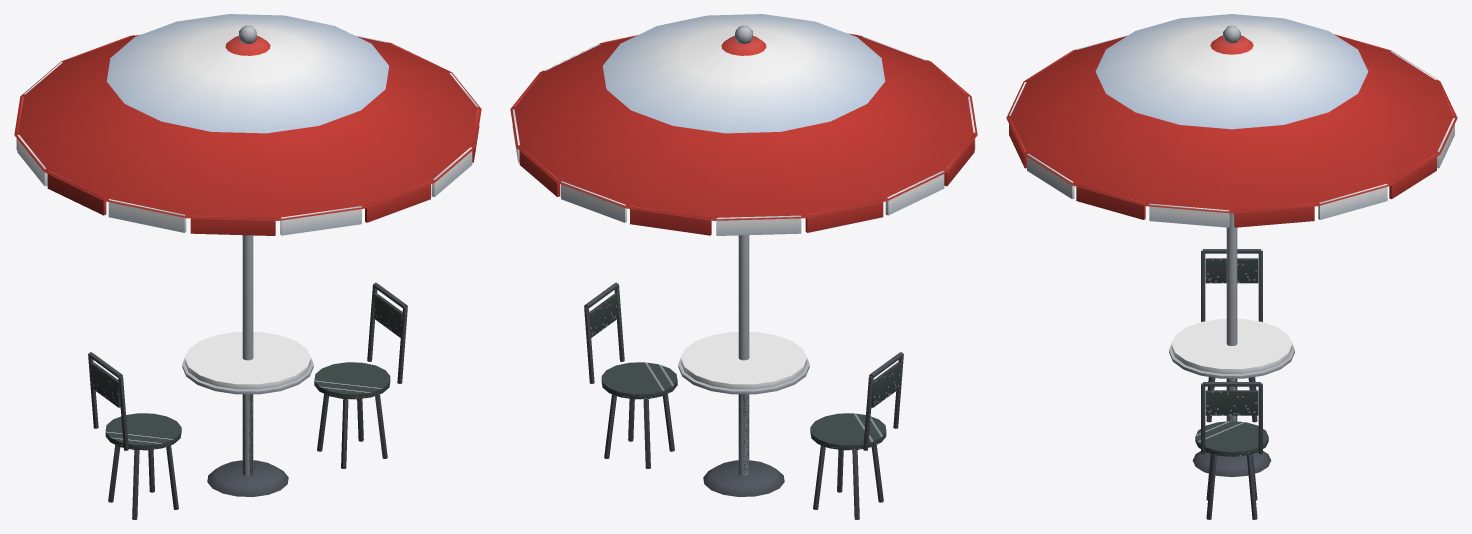
Rendered from ck_cafe_table_parasol.fbx.
The picture shows the model from 3 angles, left to right: view 1: azimuth 30°, elevation 25°; view 2: azimuth 150°, elevation 25°; view 3: azimuth 270°, elevation 25°; orthographic projection. The views are drawn at different scales.
Visible parts, largest first — view 1: ck_cafe_table_parasol; view 2: ck_cafe_table_parasol; view 3: ck_cafe_table_parasol.
Boxes of the visible parts, box(x1,y1,x2,y2) form: ck_cafe_table_parasol: box(14, 14, 481, 519); ck_cafe_table_parasol: box(510, 14, 977, 519); ck_cafe_table_parasol: box(1006, 14, 1457, 519).
Bounding box in the file's own units: 857 × 910 × 857.
